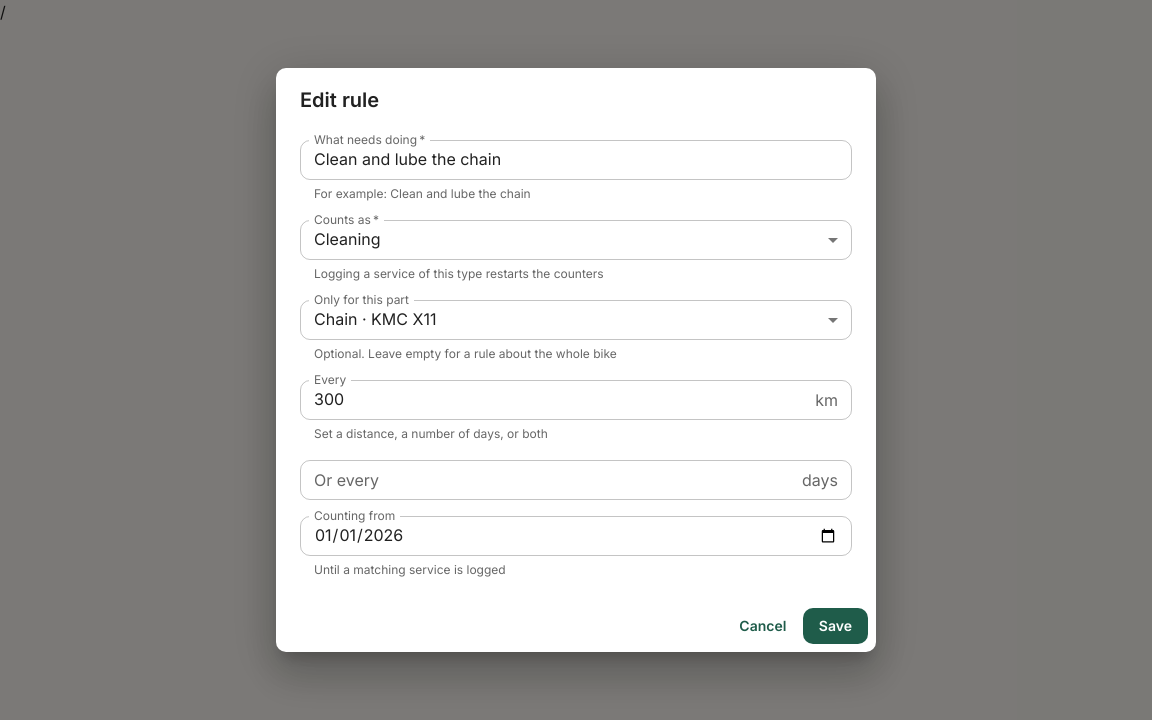
Test: RuleFormDialog › editing uses PUT and prefilled values
expect the heading "Edit rule" is shown: met, box [300, 88, 379, 112]
expect the field labelled "What needs doing *" holds "Clean and lube the chain": met, box [300, 140, 852, 180]
Click the button "Save".
click(835, 626)  # box [803, 608, 868, 644]
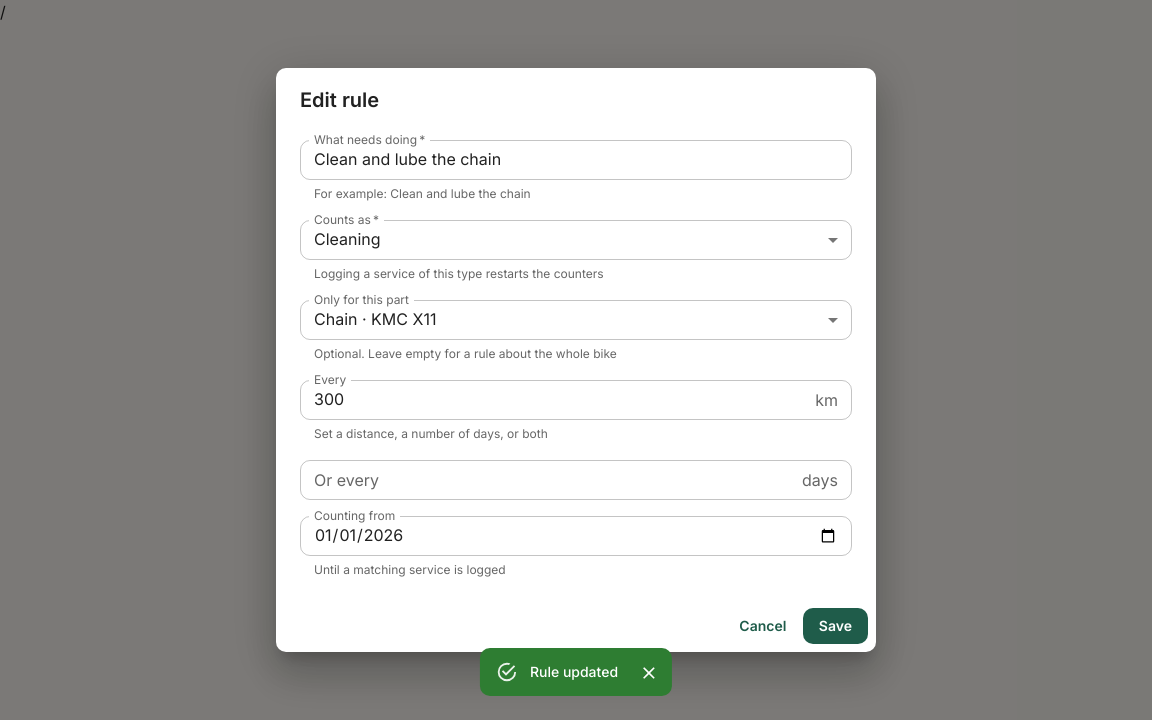
expect the text "Rule updated" is shown: met, box [530, 663, 618, 680]
